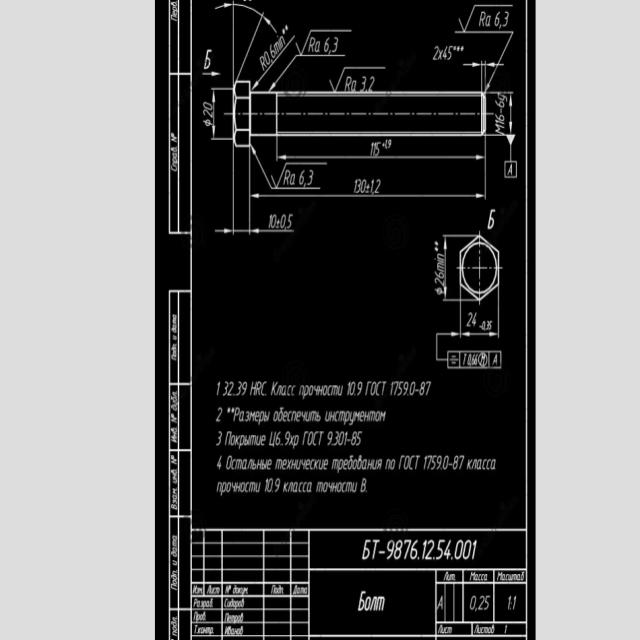marking_line: (247, 149, 483, 201), (275, 137, 488, 162), (216, 3, 277, 79), (243, 149, 294, 237), (215, 149, 248, 238), (270, 53, 345, 90), (252, 35, 295, 89), (459, 303, 502, 339), (211, 86, 232, 143), (488, 94, 514, 137), (444, 234, 460, 303), (435, 330, 459, 364), (462, 59, 482, 87), (201, 69, 221, 78)
numeric: (403, 537, 412, 562), (463, 538, 472, 561), (435, 540, 445, 560), (454, 540, 464, 560), (425, 538, 434, 560), (394, 540, 403, 560), (410, 540, 418, 560), (444, 538, 451, 559), (422, 538, 428, 562), (331, 36, 339, 53), (298, 167, 305, 185), (387, 540, 393, 561), (471, 540, 477, 561), (337, 431, 345, 446), (286, 212, 293, 229), (216, 430, 223, 447), (368, 75, 375, 92), (360, 75, 367, 92), (466, 311, 473, 327), (327, 430, 334, 446), (356, 431, 363, 447), (469, 595, 476, 611), (349, 381, 356, 397), (356, 381, 363, 397), (397, 381, 404, 397), (307, 168, 313, 186), (324, 37, 330, 55), (374, 179, 381, 194), (274, 477, 281, 492), (433, 46, 440, 61), (351, 430, 357, 447), (431, 454, 437, 471), (478, 594, 484, 611), (484, 594, 490, 611), (447, 44, 453, 61), (203, 108, 213, 118), (434, 278, 445, 287), (458, 455, 465, 469), (409, 381, 416, 395), (333, 431, 339, 447), (427, 454, 433, 470), (436, 455, 442, 471), (443, 455, 449, 471), (284, 430, 290, 446), (264, 50, 270, 66), (503, 11, 509, 27), (494, 11, 500, 27), (280, 213, 286, 228), (356, 179, 362, 194), (375, 140, 381, 155), (216, 407, 222, 422), (267, 478, 273, 493), (452, 455, 458, 470), (228, 381, 234, 396), (236, 381, 242, 396), (403, 381, 409, 396), (419, 381, 425, 396), (270, 44, 276, 59), (498, 94, 508, 103), (423, 455, 428, 472), (360, 179, 366, 193), (217, 456, 223, 470), (393, 381, 399, 395), (203, 102, 212, 111), (353, 178, 358, 194), (434, 271, 444, 279), (472, 311, 477, 327), (426, 381, 431, 397), (443, 45, 448, 61), (271, 213, 276, 228), (372, 141, 377, 156), (512, 596, 517, 611), (223, 381, 228, 396), (242, 382, 247, 397), (389, 382, 394, 397), (495, 100, 505, 107), (216, 381, 221, 395), (495, 114, 506, 120), (268, 213, 272, 229), (370, 178, 374, 194), (345, 431, 349, 447), (264, 478, 268, 493), (507, 595, 511, 610), (347, 381, 351, 396), (369, 142, 373, 156), (387, 140, 392, 149), (495, 121, 506, 125), (485, 320, 489, 331), (482, 320, 486, 330), (489, 320, 492, 331), (385, 137, 387, 150)
special_symbol: (454, 25, 509, 90), (457, 3, 514, 31), (295, 28, 351, 55), (329, 66, 386, 92), (435, 286, 444, 296), (203, 119, 213, 126), (434, 246, 438, 252), (435, 240, 439, 246), (456, 45, 460, 51), (460, 46, 464, 52), (454, 46, 456, 52)
